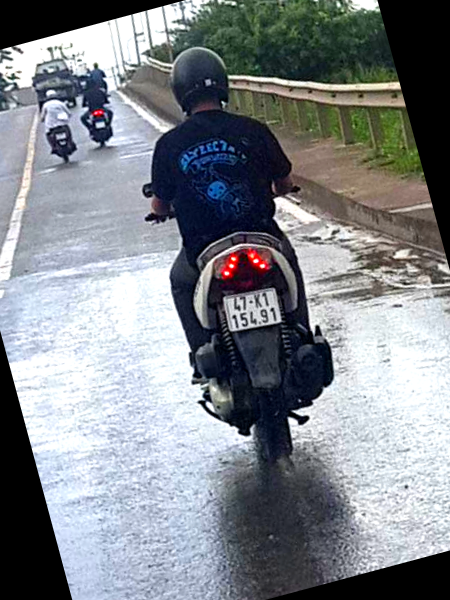number: (223, 287, 280, 331)
